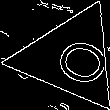O_NW: (34, 27, 105, 88)
